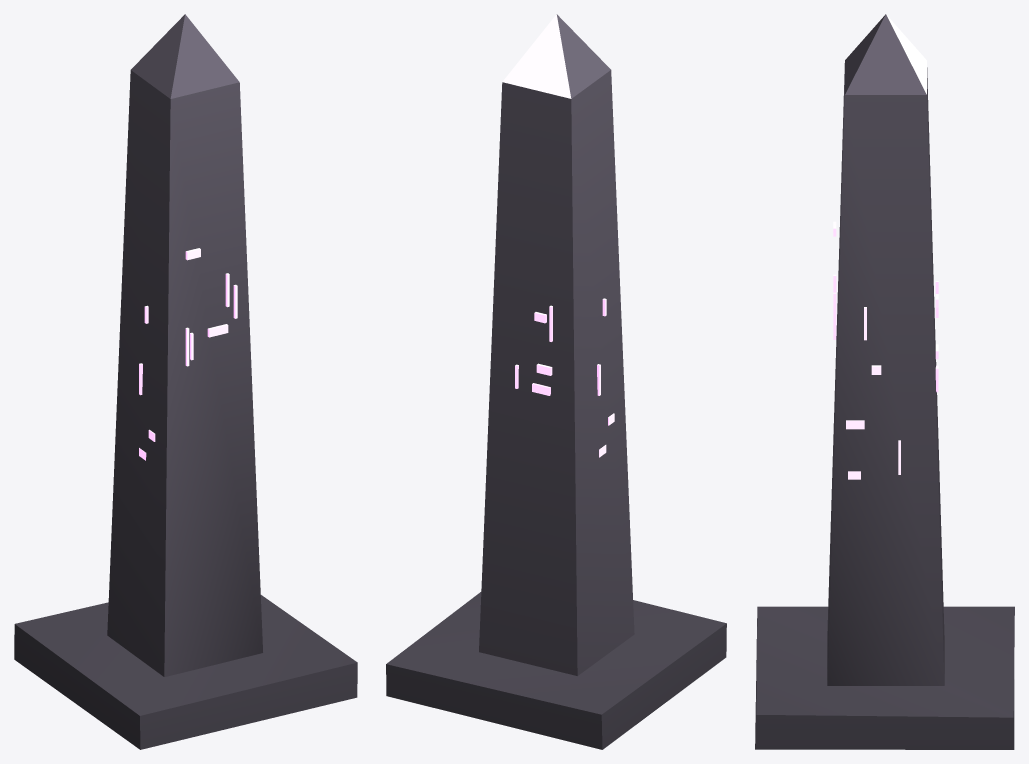
The model's file is obj_obelisco_3.glb.
3 views of the same model, side by side, from view 1: azimuth 30°, elevation 25°; view 2: azimuth 150°, elevation 25°; view 3: azimuth 270°, elevation 25° (orthographic). The views are drawn at different scales.
Parts seen in each view (by area): view 1: propforge-libre-obelisco; view 2: propforge-libre-obelisco; view 3: propforge-libre-obelisco.
Boxes of the visible parts, <box> form: propforge-libre-obelisco: <box>14,14,357,749</box>; propforge-libre-obelisco: <box>386,14,726,749</box>; propforge-libre-obelisco: <box>755,14,1014,749</box>.
Size of the model in its own units: 0.4965 by 1.45 by 0.4995.
